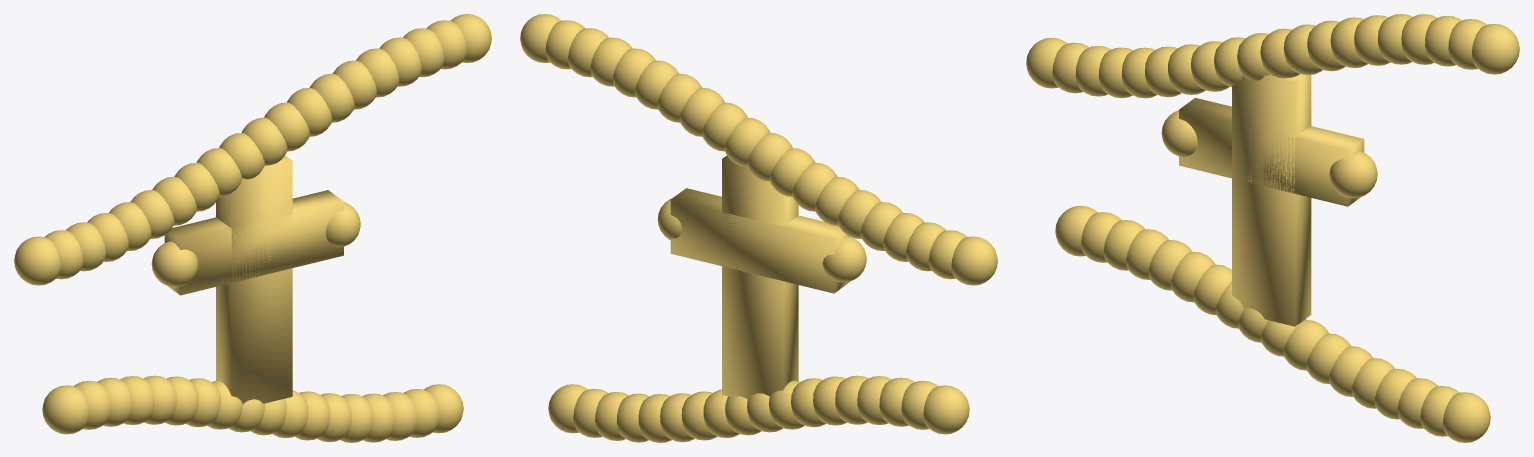
The model's file is gold-cross-chain.web.glb.
The picture shows the model from 3 angles, left to right: view 1: azimuth 30°, elevation 25°; view 2: azimuth 150°, elevation 25°; view 3: azimuth 330°, elevation 25°; orthographic projection. The views are drawn at different scales.
Parts seen in each view (by area): view 1: gold-cross-chain-38, gold-cross-chain-39, gold-cross-chain-20, gold-cross-chain-00, gold-cross-chain-40, gold-cross-chain-11, gold-cross-chain-10, gold-cross-chain-12, gold-cross-chain-08, gold-cross-chain-13, gold-cross-chain-07, gold-cross-chain-14 (+30 smaller); view 2: gold-cross-chain-38, gold-cross-chain-39, gold-cross-chain-20, gold-cross-chain-00, gold-cross-chain-40, gold-cross-chain-10, gold-cross-chain-11, gold-cross-chain-09, gold-cross-chain-12, gold-cross-chain-08, gold-cross-chain-13, gold-cross-chain-07 (+30 smaller); view 3: gold-cross-chain-38, gold-cross-chain-39, gold-cross-chain-19, gold-cross-chain-37, gold-cross-chain-41, gold-cross-chain-30, gold-cross-chain-25, gold-cross-chain-20, gold-cross-chain-31, gold-cross-chain-00, gold-cross-chain-24, gold-cross-chain-32 (+30 smaller).
Boxes of the visible parts, x1=… form: gold-cross-chain-38: x1=216, y1=155, x2=292, y2=403; gold-cross-chain-39: x1=164, y1=190, x2=343, y2=295; gold-cross-chain-20: x1=42, y1=385, x2=88, y2=434; gold-cross-chain-00: x1=14, y1=236, x2=60, y2=285; gold-cross-chain-40: x1=151, y1=241, x2=198, y2=287; gold-cross-chain-11: x1=264, y1=102, x2=309, y2=151; gold-cross-chain-10: x1=241, y1=117, x2=287, y2=165; gold-cross-chain-12: x1=287, y1=87, x2=332, y2=136; gold-cross-chain-08: x1=197, y1=148, x2=242, y2=196; gold-cross-chain-13: x1=310, y1=73, x2=354, y2=122; gold-cross-chain-07: x1=174, y1=162, x2=219, y2=211; gold-cross-chain-14: x1=333, y1=60, x2=376, y2=109; gold-cross-chain-38: x1=722, y1=155, x2=798, y2=399; gold-cross-chain-39: x1=670, y1=188, x2=849, y2=293; gold-cross-chain-20: x1=923, y1=385, x2=969, y2=434; gold-cross-chain-00: x1=951, y1=236, x2=997, y2=285; gold-cross-chain-40: x1=822, y1=237, x2=866, y2=282; gold-cross-chain-10: x1=724, y1=117, x2=770, y2=166; gold-cross-chain-11: x1=702, y1=102, x2=747, y2=151; gold-cross-chain-09: x1=747, y1=133, x2=792, y2=181; gold-cross-chain-12: x1=679, y1=87, x2=724, y2=136; gold-cross-chain-08: x1=769, y1=148, x2=814, y2=196; gold-cross-chain-13: x1=657, y1=73, x2=701, y2=122; gold-cross-chain-07: x1=792, y1=162, x2=837, y2=211; gold-cross-chain-38: x1=1232, y1=74, x2=1311, y2=326; gold-cross-chain-39: x1=1179, y1=97, x2=1364, y2=206; gold-cross-chain-19: x1=1471, y1=24, x2=1519, y2=74; gold-cross-chain-37: x1=1443, y1=392, x2=1490, y2=442; gold-cross-chain-41: x1=1329, y1=151, x2=1377, y2=198; gold-cross-chain-30: x1=1283, y1=320, x2=1328, y2=370; gold-cross-chain-25: x1=1171, y1=252, x2=1215, y2=302; gold-cross-chain-20: x1=1055, y1=206, x2=1097, y2=256; gold-cross-chain-31: x1=1306, y1=333, x2=1350, y2=384; gold-cross-chain-00: x1=1026, y1=37, x2=1067, y2=88; gold-cross-chain-24: x1=1148, y1=240, x2=1192, y2=290; gold-cross-chain-32: x1=1329, y1=346, x2=1373, y2=396.
Size of the model in its own units: 4.18 by 3.46 by 0.42.
